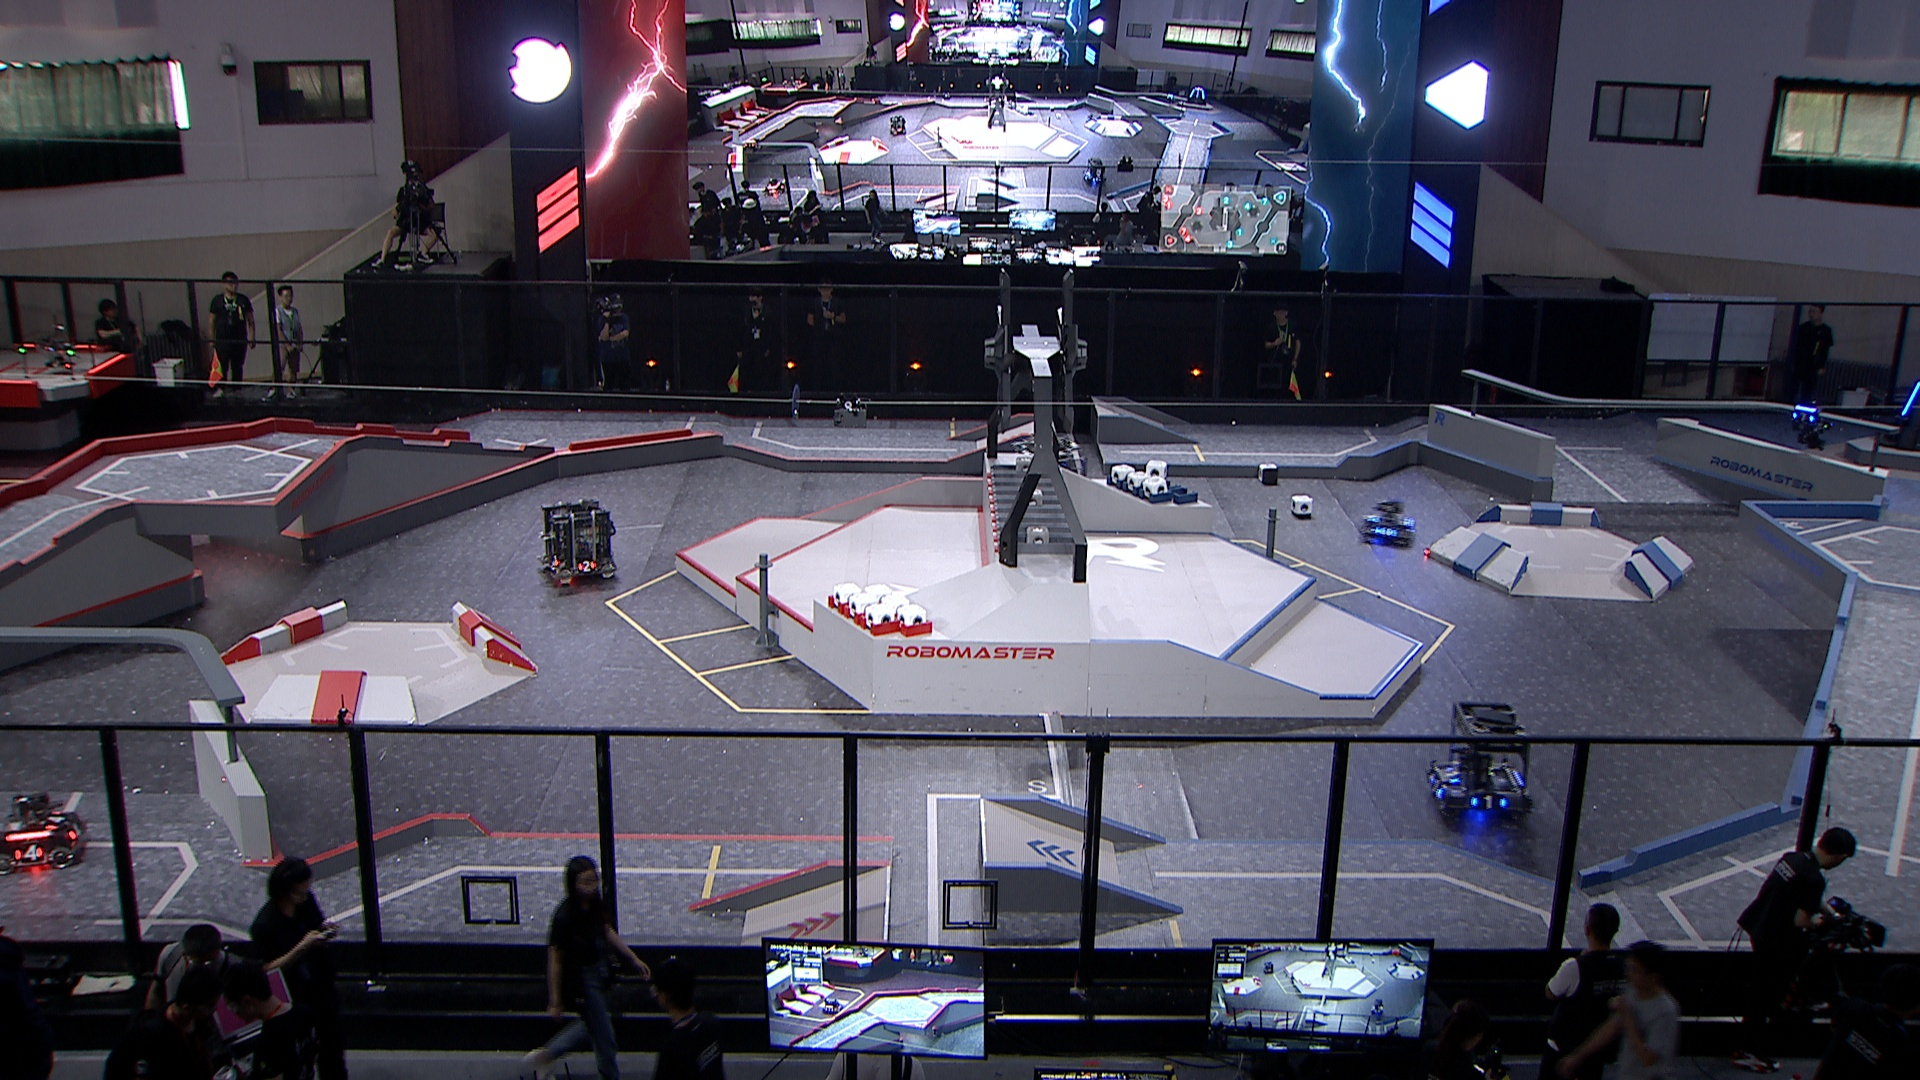armor: (1899, 381, 1920, 418), (1470, 794, 1506, 814), (11, 844, 45, 864), (44, 807, 65, 832), (1439, 765, 1461, 785), (1428, 773, 1444, 800), (67, 820, 84, 843), (1373, 526, 1396, 541), (1789, 410, 1815, 423), (576, 559, 595, 574), (547, 553, 560, 568)
base: (1879, 363, 1920, 455)
car: (1425, 699, 1536, 822), (535, 498, 617, 588), (1007, 434, 1088, 513), (1357, 498, 1415, 550)
ignore: (1079, 157, 1106, 185), (1185, 86, 1209, 107), (887, 112, 909, 136), (764, 175, 785, 196), (742, 138, 761, 154)
watcher: (1788, 400, 1833, 451)
